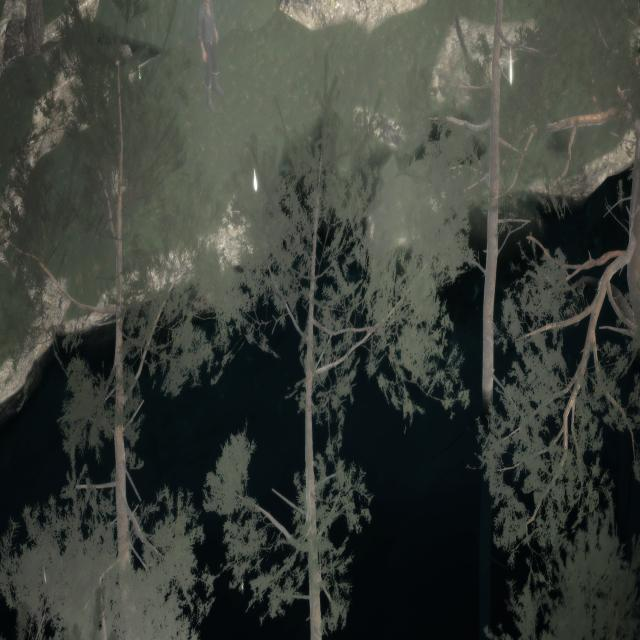Human: (199, 0, 229, 124)
